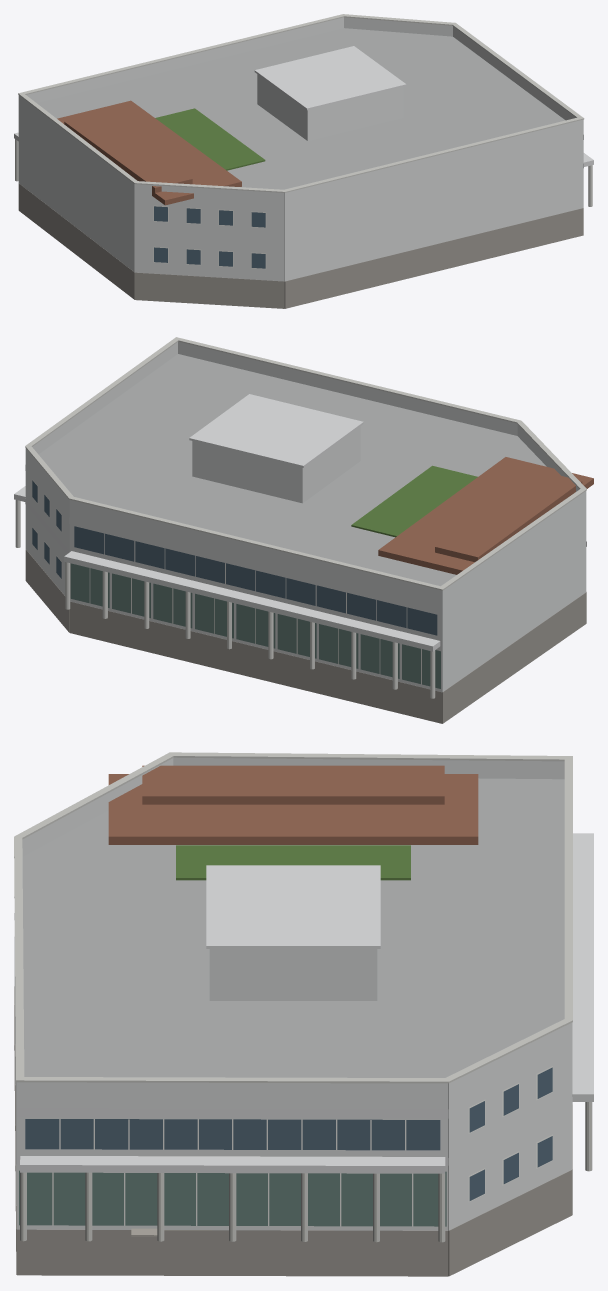
3 views of the same model, one above another, from view 1: azimuth 30°, elevation 25°; view 2: azimuth 150°, elevation 25°; view 3: azimuth 270°, elevation 25° (orthographic). The views are drawn at different scales.
Visible parts, largest first — view 1: w653568201__base-wall, w653568201__roof, w653568201__foundation-wall, w653568201__terrace-wall, w653568201__band-wall, w653568201__coping-stone, w653568201__grass, w653568201__glass, w653568201__frame; view 2: w653568201__roof, w653568201__base-wall, w653568201__foundation-wall, w653568201__band-wall, w653568201__shop-glass, w653568201__terrace-wall, w653568201__glass, w653568201__coping-stone, w653568201__grass, w653568201__column-stone, w653568201__frame; view 3: w653568201__roof, w653568201__base-wall, w653568201__band-wall, w653568201__terrace-wall, w653568201__foundation-wall, w653568201__shop-glass, w653568201__glass, w653568201__coping-stone, w653568201__grass, w653568201__column-stone, w653568201__frame.
Boxes of the visible parts, box(x1,y1,x2,y2) form: w653568201__base-wall: box(18, 17, 583, 281); w653568201__roof: box(37, 28, 565, 189); w653568201__foundation-wall: box(18, 183, 583, 308); w653568201__terrace-wall: box(57, 100, 241, 205); w653568201__band-wall: box(14, 46, 593, 242); w653568201__coping-stone: box(18, 14, 584, 192); w653568201__grass: box(155, 108, 265, 170); w653568201__glass: box(154, 206, 265, 268); w653568201__frame: box(153, 205, 266, 269); w653568201__roof: box(38, 354, 546, 586); w653568201__base-wall: box(25, 341, 586, 692); w653568201__foundation-wall: box(25, 549, 586, 723); w653568201__band-wall: box(14, 394, 586, 651); w653568201__shop-glass: box(70, 563, 440, 688); w653568201__terrace-wall: box(378, 457, 593, 574); w653568201__glass: box(32, 480, 437, 635); w653568201__coping-stone: box(25, 337, 586, 590); w653568201__grass: box(351, 465, 477, 537); w653568201__column-stone: box(15, 500, 435, 698); w653568201__frame: box(32, 479, 421, 684); w653568201__roof: box(22, 778, 564, 1077); w653568201__base-wall: box(14, 757, 572, 1230); w653568201__band-wall: box(14, 833, 593, 1173); w653568201__terrace-wall: box(108, 765, 478, 844); w653568201__foundation-wall: box(14, 986, 572, 1276); w653568201__shop-glass: box(19, 1170, 446, 1226); w653568201__glass: box(25, 1067, 552, 1200); w653568201__coping-stone: box(14, 752, 572, 1083); w653568201__grass: box(176, 845, 410, 880); w653568201__column-stone: box(20, 1102, 592, 1242); w653568201__frame: box(52, 1066, 552, 1226).
Size of the model in its own units: 47.65 by 15.2 by 34.54.
